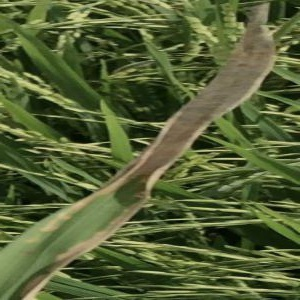Leaf_Blast: (9, 162, 154, 300)
